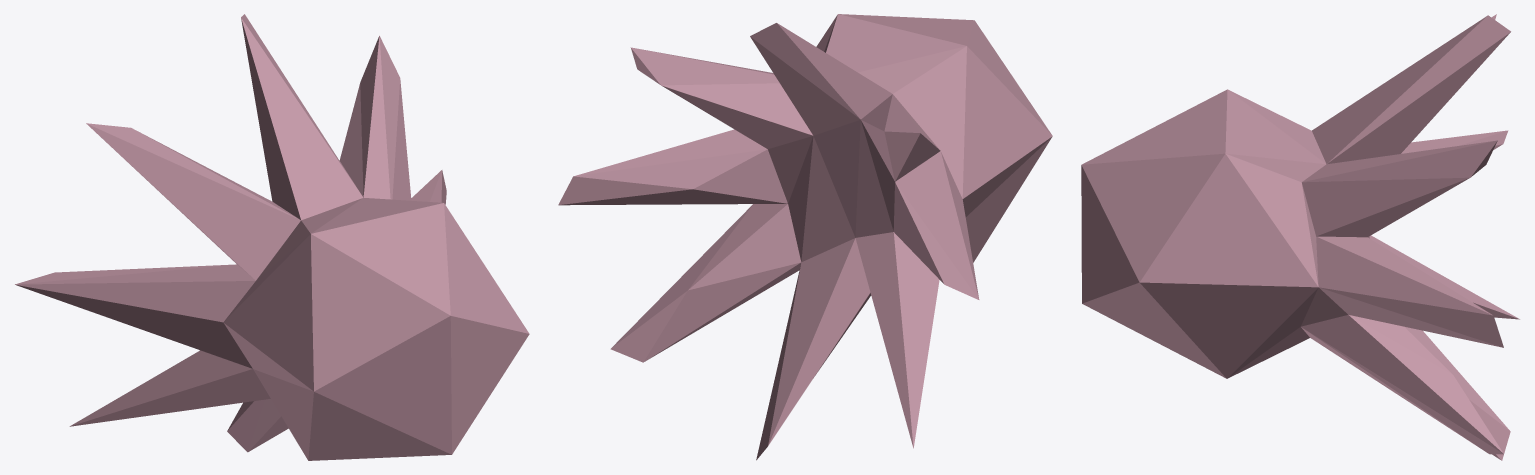
3 renders of one model, left to right at view 1: azimuth 30°, elevation 25°; view 2: azimuth 150°, elevation 25°; view 3: azimuth 270°, elevation 25°, orthographic.
Parts seen in each view (by area): view 1: part0; view 2: part0; view 3: part0.
Part boxes in pixels (<box>): part0: <box>15,14,529,460</box>; part0: <box>558,14,1052,460</box>; part0: <box>1081,14,1519,460</box>.
Bounding box in the file's own units: 2.87 × 2.83 × 2.56.
